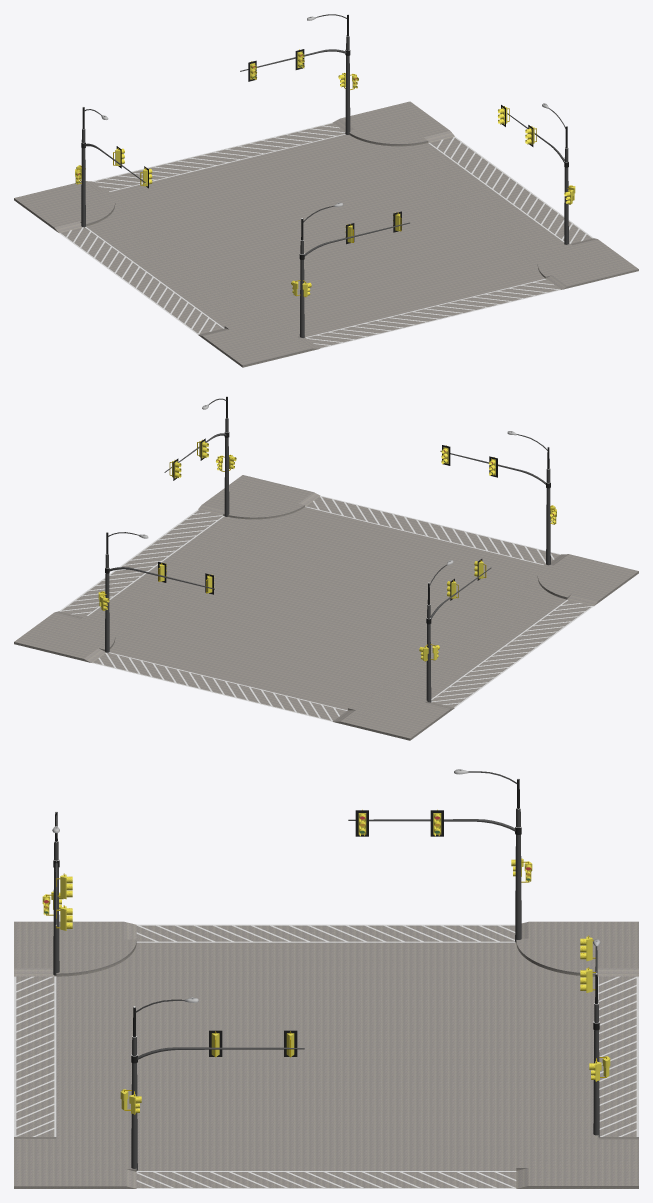
File: 4_intersection.dae
3 renders of one model, top to bottom at view 1: azimuth 30°, elevation 25°; view 2: azimuth 150°, elevation 25°; view 3: azimuth 270°, elevation 25°, orthographic. The views are drawn at different scales.
Visible parts, largest first — view 1: SketchUp (×5); view 2: SketchUp (×5); view 3: SketchUp (×5), Intersection_traffic_signals (×4).
Part boxes in pixels (x1,y1,x2,y2): SketchUp (×5): [14, 101, 638, 367]; SketchUp (×5): [14, 475, 638, 740]; SketchUp (×5): [14, 921, 638, 1188]; Intersection_traffic_signals (×4): [53, 808, 599, 1170].
Size of the model in its own units: 1120 by 1120 by 341.
12 materials, 2 textured.
